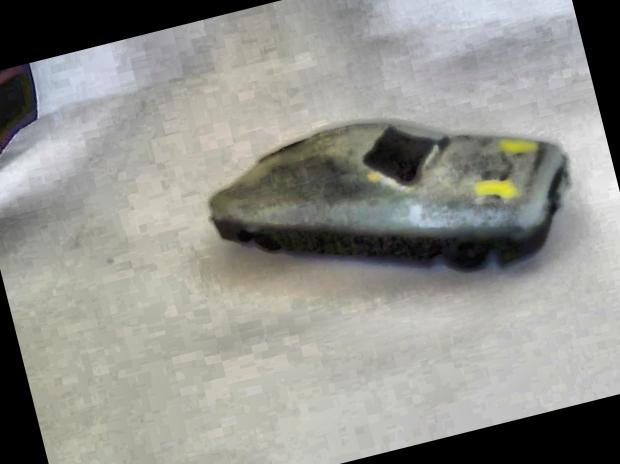normal_car: (188, 66, 594, 336)
